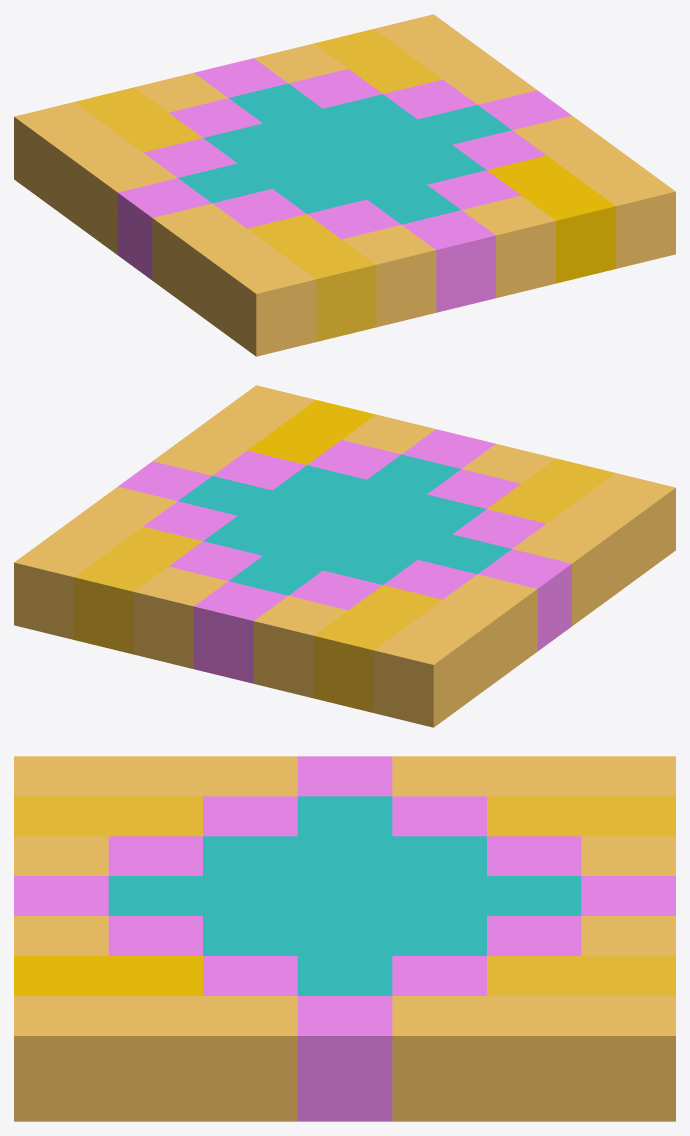
The model's file is brickright.obj.
3 views of the same model, one above another, from view 1: azimuth 30°, elevation 25°; view 2: azimuth 150°, elevation 25°; view 3: azimuth 270°, elevation 25° (orthographic). The views are drawn at different scales.
Visible parts, largest first — view 1: brickright; view 2: brickright; view 3: brickright.
Boxes of the visible parts, left/top/right/bottom form: brickright: left=14, top=14, right=675, bottom=356; brickright: left=14, top=385, right=675, bottom=727; brickright: left=14, top=756, right=675, bottom=1121.
Size of the model in its own units: 7 by 1 by 7.
1 material, 1 textured.
